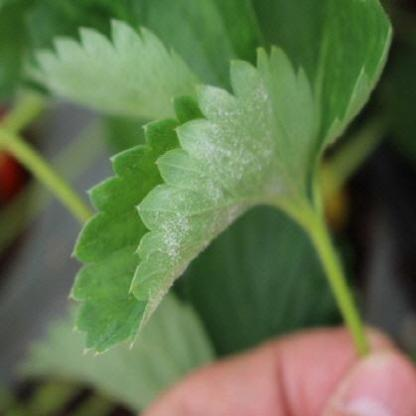Strawberry_Powdery_Mildew_Leaf: (69, 43, 321, 356)
